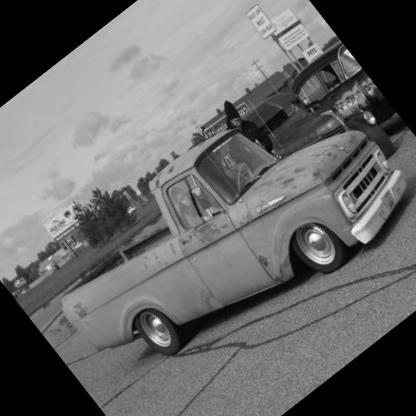truck: (5, 28, 416, 416)
